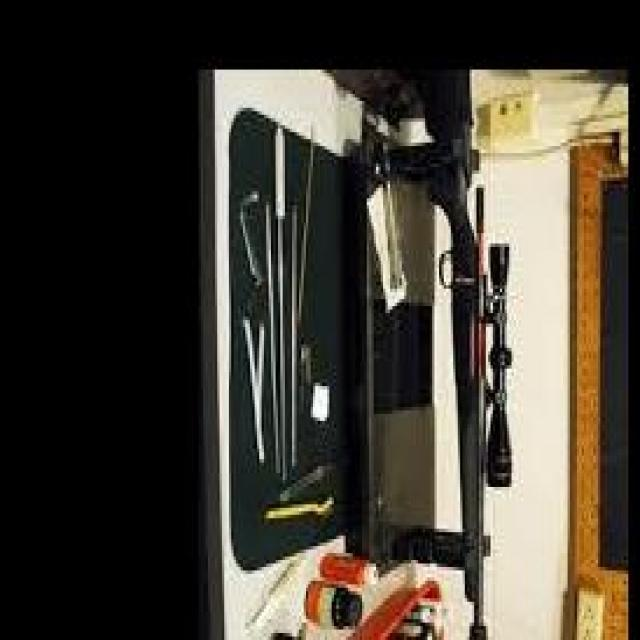weapon: (390, 71, 514, 640)
